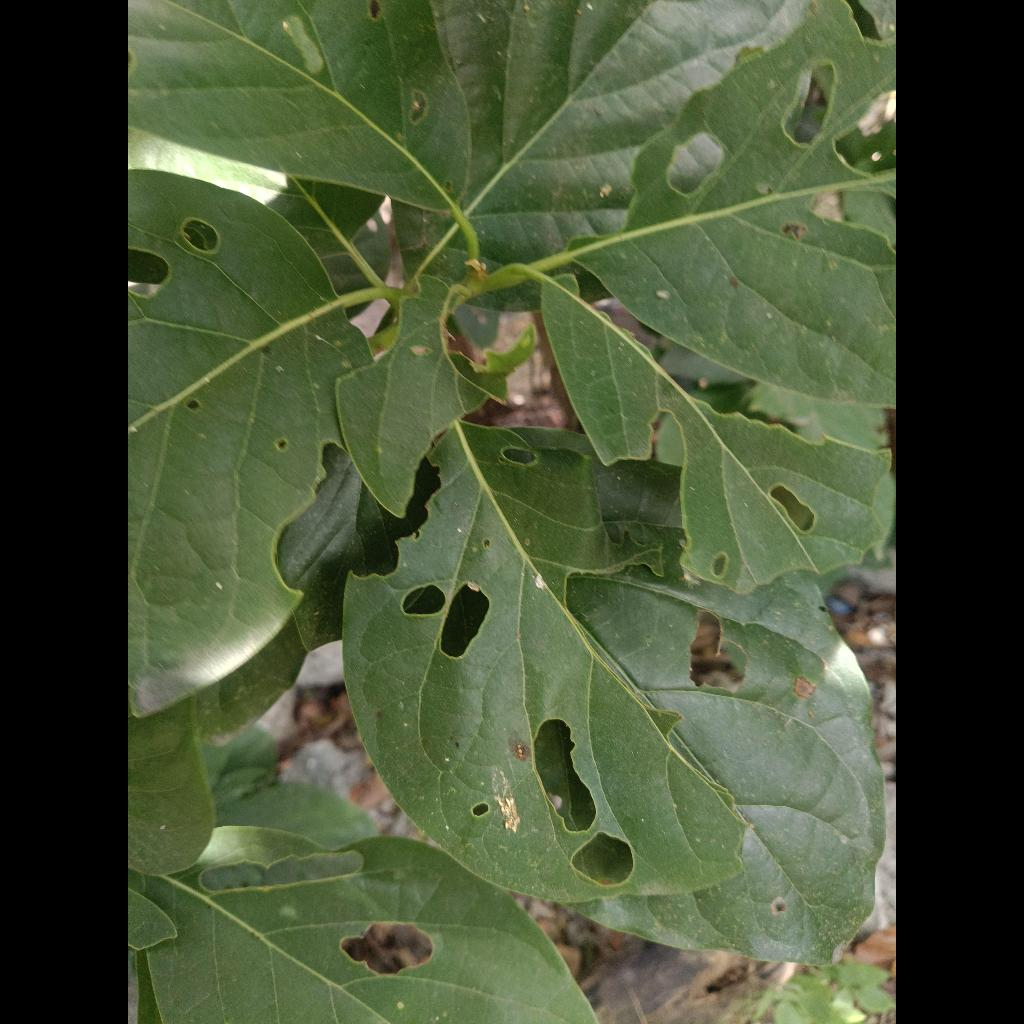plaga: (344, 422, 751, 902)
